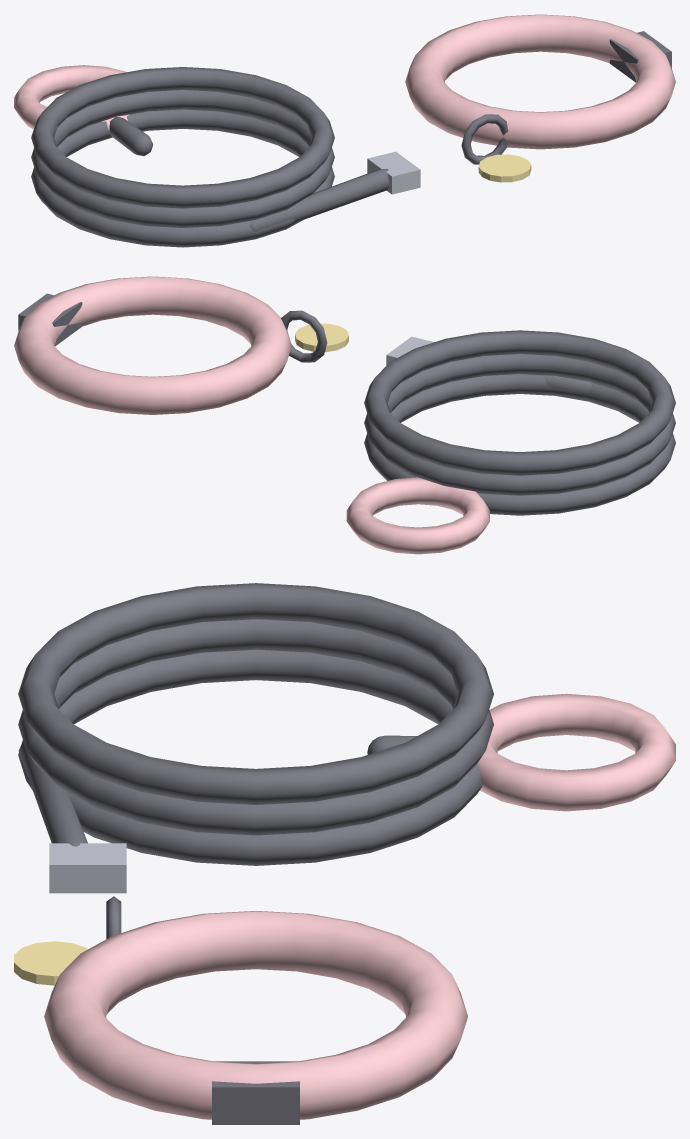
File: companion-animals-and-pet-home-lead-and-collar-356d1c6c__20662.glb
3 renders of one model, top to bottom at view 1: azimuth 30°, elevation 25°; view 2: azimuth 150°, elevation 25°; view 3: azimuth 270°, elevation 25°, orthographic. The views are drawn at different scales.
Parts seen in each view (by area): view 1: lead-and-collar; view 2: lead-and-collar; view 3: lead-and-collar.
Boxes of the visible parts, <box> form: lead-and-collar: <box>14,14,675,247</box>; lead-and-collar: <box>14,276,675,554</box>; lead-and-collar: <box>14,583,675,1124</box>.
Bounding box in the file's own units: 0.424 × 0.044 × 0.2559.
